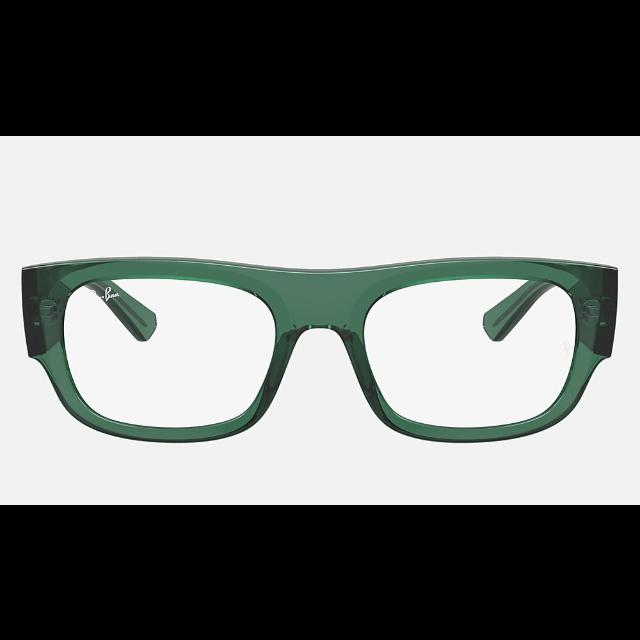glasses: (22, 256, 618, 442)
